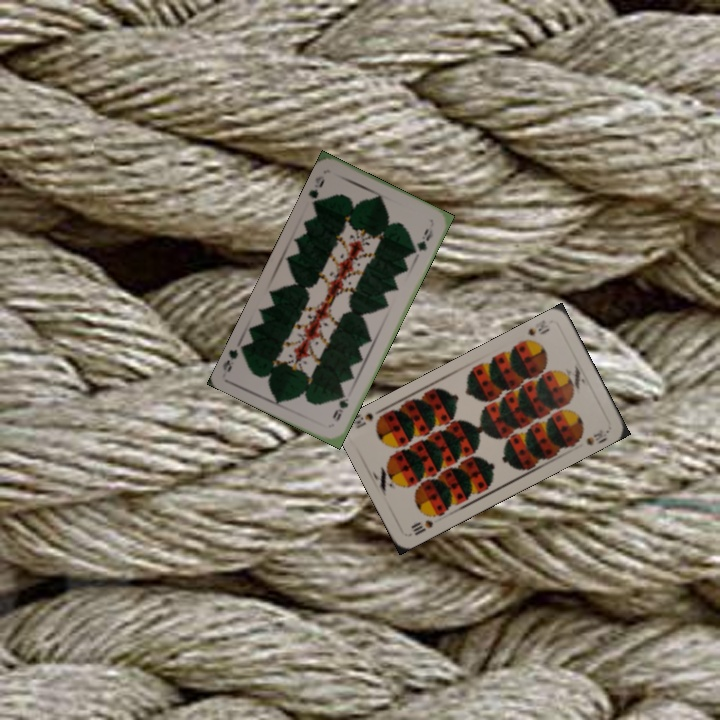G9: (304, 171, 328, 208), (328, 389, 351, 424)
S10: (518, 316, 552, 345), (407, 516, 436, 538)
